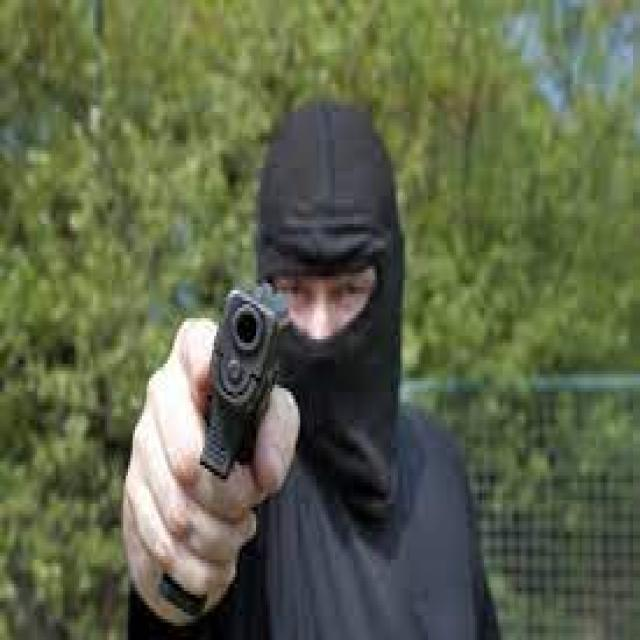6_pasamontana: (255, 97, 406, 524)
